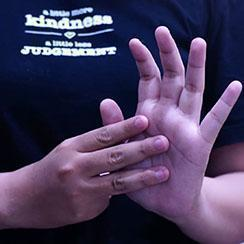M: (56, 5, 244, 244)
